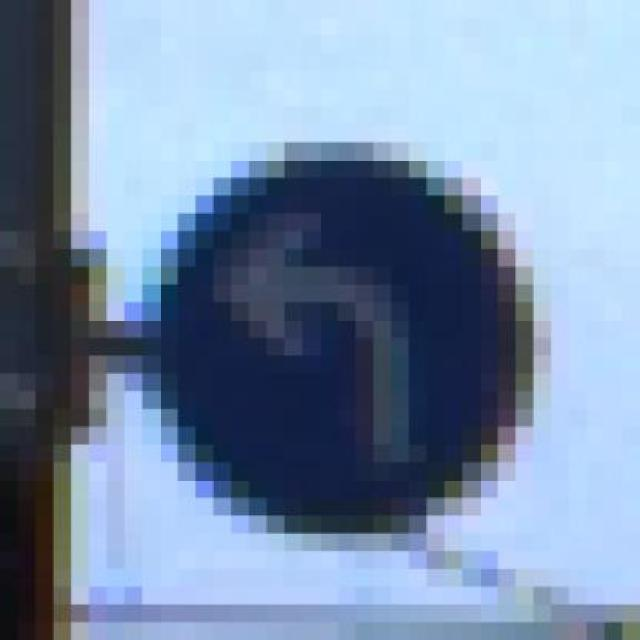Turn left ahead: (124, 129, 568, 556)
